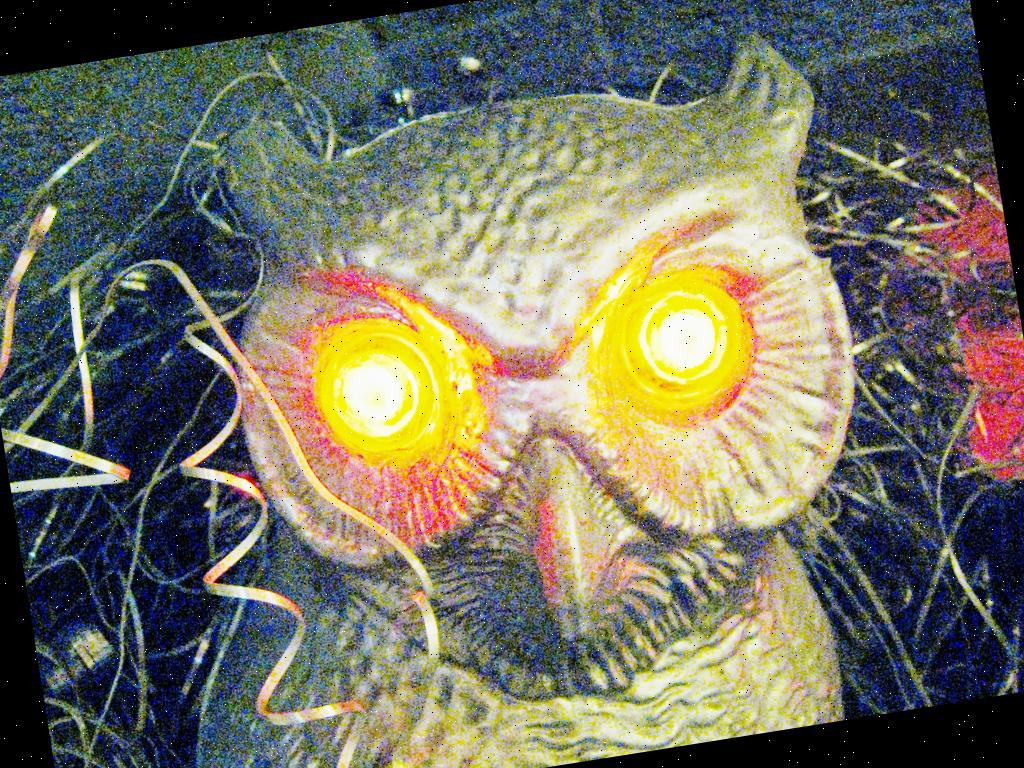Owl: (153, 16, 910, 768)
